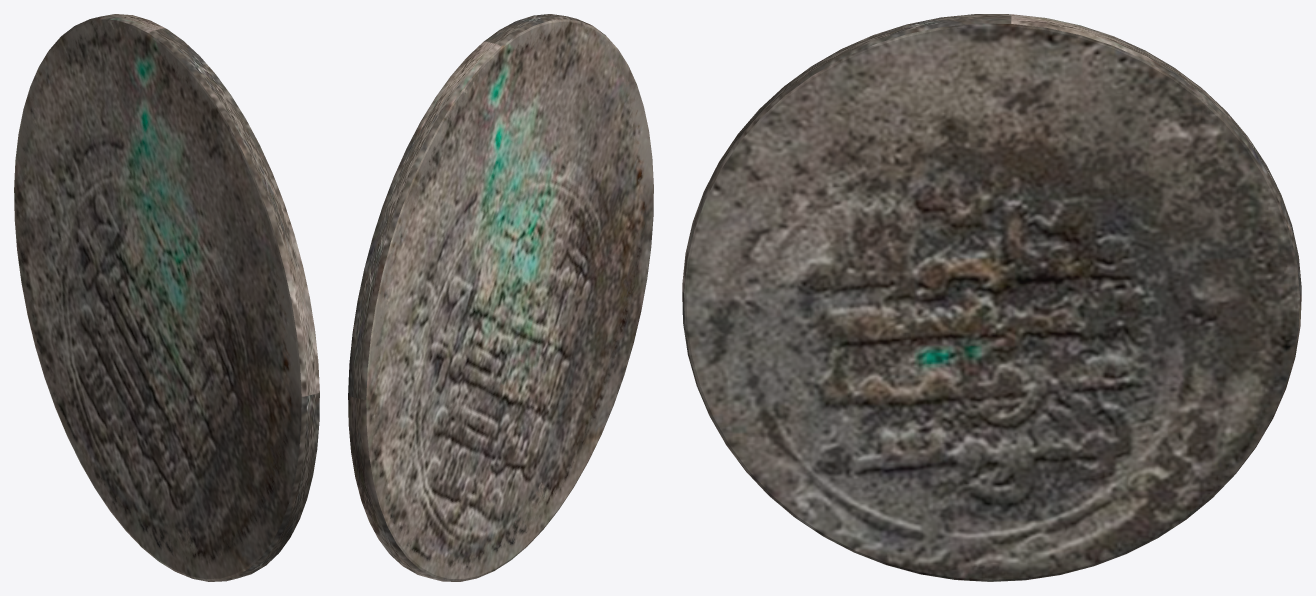
The model's file is tanga 16.glb.
The picture shows the model from 3 angles, left to right: view 1: azimuth 30°, elevation 25°; view 2: azimuth 150°, elevation 25°; view 3: azimuth 270°, elevation 25°; orthographic projection. The views are drawn at different scales.
Visible parts, largest first — view 1: Object072; view 2: Object072; view 3: Object072.
Part boxes in pixels (left/top/right/bottom): Object072: left=14, top=14, right=319, bottom=581; Object072: left=348, top=14, right=653, bottom=581; Object072: left=682, top=14, right=1301, bottom=581.
Bounding box in the file's own units: 0.00162 × 0.0416 × 0.0416.
Materials: 1 (1 with a texture image).
